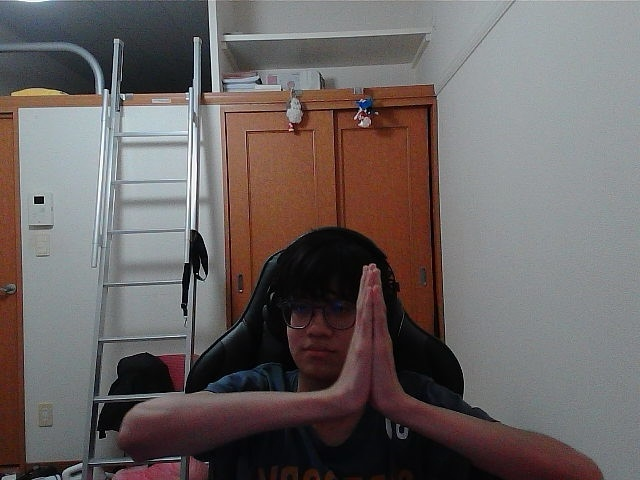pray: (350, 289, 369, 390)
